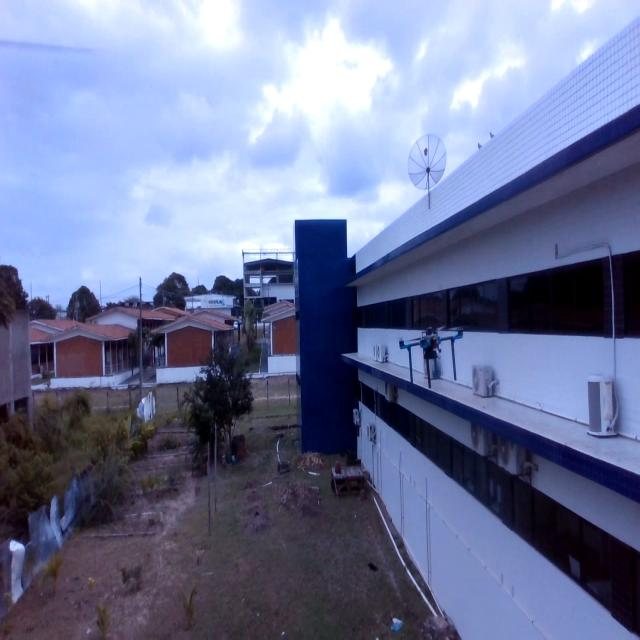-uav-: (394, 314, 472, 400)
